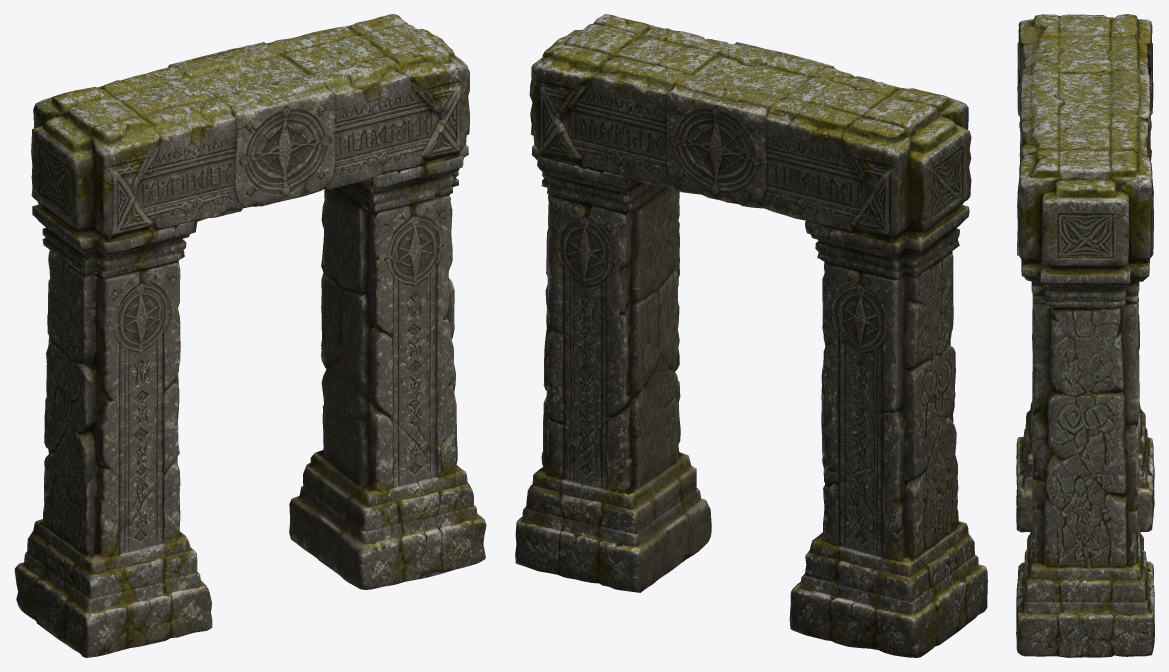
The model's file is GiantDoor.fbx.
3 views of the same model, side by side, from view 1: azimuth 30°, elevation 25°; view 2: azimuth 150°, elevation 25°; view 3: azimuth 270°, elevation 25° (orthographic). The views are drawn at different scales.
Parts seen in each view (by area): view 1: texture_mapping; view 2: texture_mapping; view 3: texture_mapping.
Part boxes in pixels (bbox=[...]): texture_mapping: bbox=[14, 14, 486, 657]; texture_mapping: bbox=[515, 14, 987, 657]; texture_mapping: bbox=[1016, 14, 1154, 657].
Bounding box in the file's own units: 0.8222 × 0.2642 × 1.
1 material, 1 textured.
